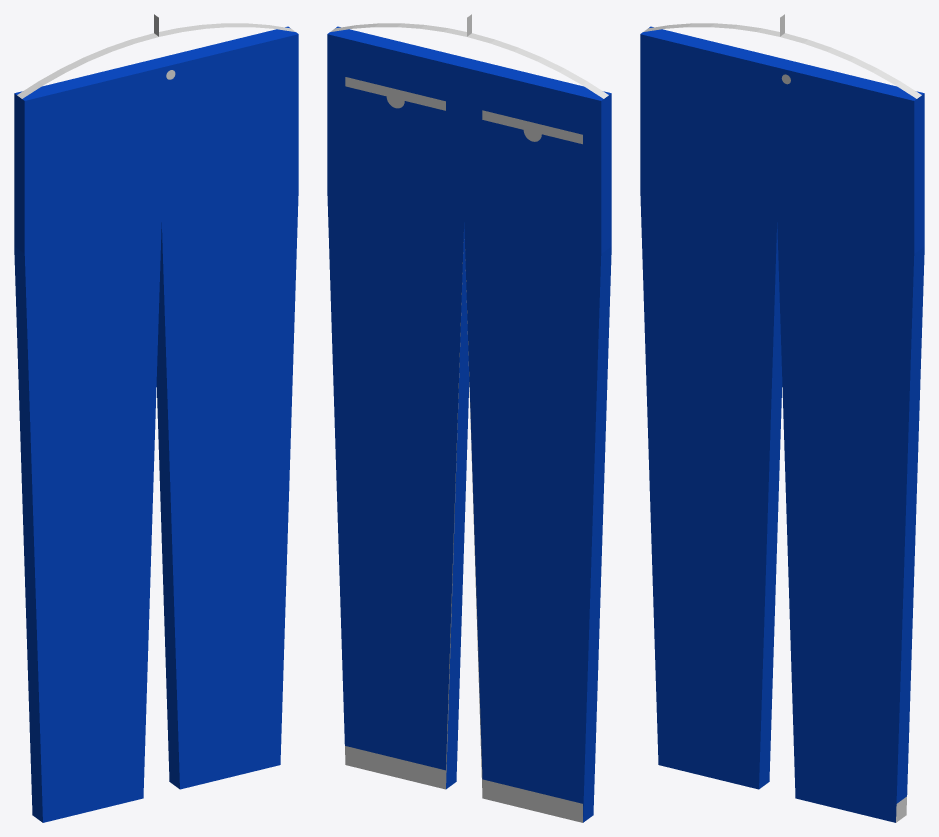
File: pants-blue.dae
The picture shows the model from 3 angles, left to right: view 1: azimuth 30°, elevation 25°; view 2: azimuth 150°, elevation 25°; view 3: azimuth 330°, elevation 25°; orthographic projection.
Visible parts, largest first — view 1: group_0_002, group_0_016, group_0_005, group_0_001; view 2: group_0_006, group_0_005, group_0_002, group_0_016, group_0_019, group_0_015, group_0_001; view 3: group_0_002, group_0_016, group_0_005, group_0_006, group_0_013, group_0_001.
Boxes of the visible parts, <box> form: group_0_002: <box>14,87,161,822</box>; group_0_016: <box>156,53,298,789</box>; group_0_005: <box>14,26,298,219</box>; group_0_001: <box>17,23,295,98</box>; group_0_006: <box>327,53,601,816</box>; group_0_005: <box>327,26,611,119</box>; group_0_002: <box>583,113,611,822</box>; group_0_016: <box>446,222,469,789</box>; group_0_019: <box>482,779,582,822</box>; group_0_015: <box>345,746,445,789</box>; group_0_001: <box>330,23,608,98</box>; group_0_002: <box>640,53,777,789</box>; group_0_016: <box>777,91,914,822</box>; group_0_005: <box>640,26,924,219</box>; group_0_006: <box>896,113,924,803</box>; group_0_013: <box>759,222,782,789</box>; group_0_001: <box>643,23,921,98</box>.
Size of the model in its own units: 0.381 by 0.0254 by 1.03.
